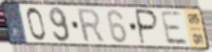0: (26, 6, 47, 42)
6: (105, 8, 129, 45)
9: (48, 5, 73, 44)
E: (158, 10, 190, 46)
P: (135, 8, 161, 46)
R: (75, 7, 107, 43)
